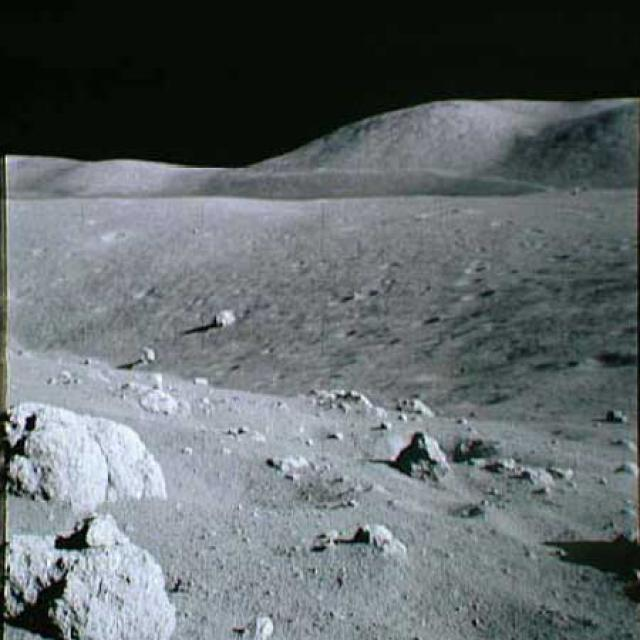crater: (188, 453, 353, 513), (528, 339, 639, 376)
rock: (0, 505, 178, 639), (6, 391, 168, 508), (390, 424, 458, 488), (301, 379, 385, 424), (348, 511, 416, 563), (136, 376, 190, 422), (232, 604, 276, 639), (468, 449, 516, 480), (390, 387, 436, 418), (518, 455, 554, 494), (603, 450, 639, 485), (306, 521, 342, 555), (600, 402, 632, 428), (210, 298, 236, 329), (600, 434, 638, 454), (550, 460, 578, 486), (135, 336, 157, 366)
